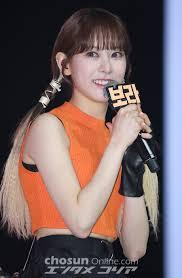earphone: (60, 59, 70, 73)
